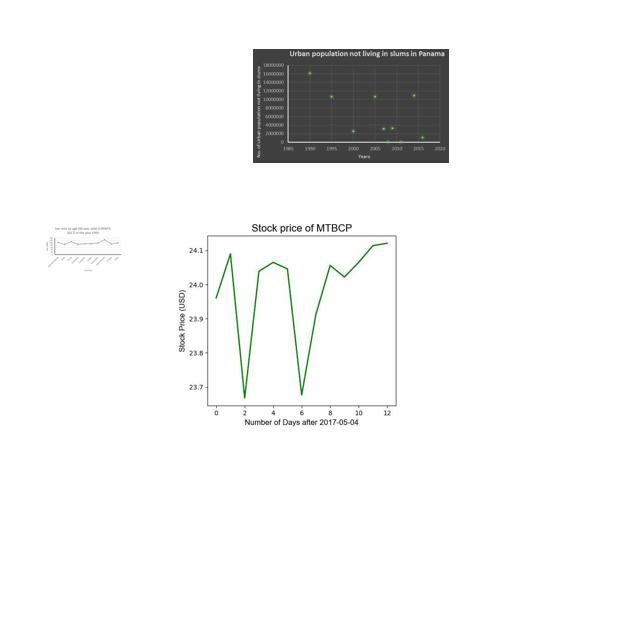Graph: (151, 209, 445, 430), (253, 49, 449, 163), (44, 226, 123, 274)
